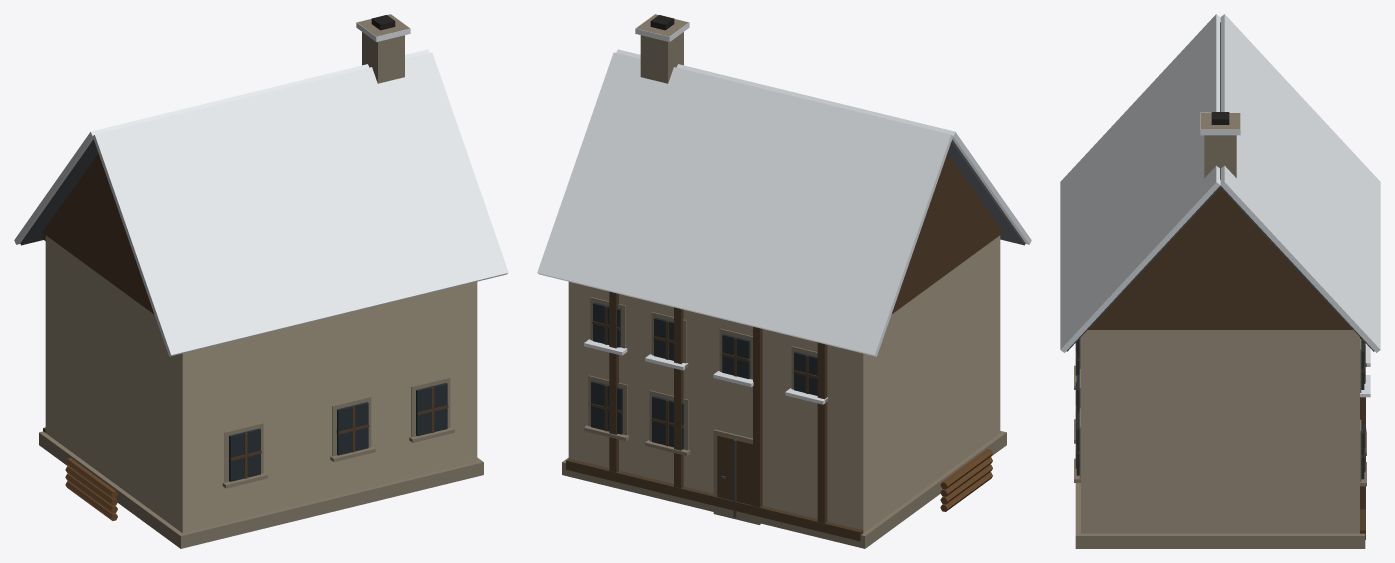
The model's file is house_ardennes.glb.
3 views of the same model, side by side, from view 1: azimuth 30°, elevation 25°; view 2: azimuth 150°, elevation 25°; view 3: azimuth 270°, elevation 25° (orthographic). The views are drawn at different scales.
Parts seen in each view (by area): view 1: house_ardennes, snow_cap; view 2: house_ardennes, snow_cap; view 3: house_ardennes, snow_cap.
Part boxes in pixels (box(x1,y1,x2,y2)): house_ardennes: box(20, 14, 483, 548); snow_cap: box(14, 14, 508, 356); house_ardennes: box(562, 14, 1025, 548); snow_cap: box(537, 14, 1031, 404); house_ardennes: box(1066, 22, 1374, 548); snow_cap: box(1060, 14, 1380, 397).
Bounding box in the file's own units: 9.7 × 11.01 × 7.57.
